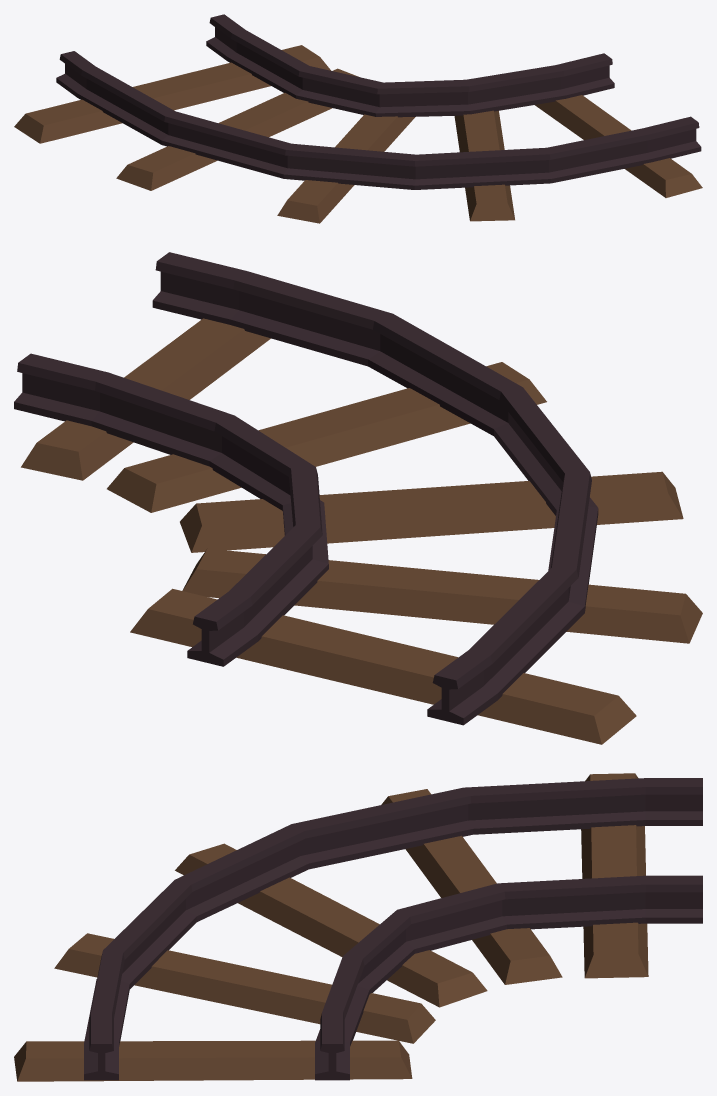
Rendered from railway_turn_light_style_01.fbx.
3 renders of one model, top to bottom at view 1: azimuth 30°, elevation 25°; view 2: azimuth 150°, elevation 25°; view 3: azimuth 270°, elevation 25°, orthographic. The views are drawn at different scales.
Parts seen in each view (by area): view 1: curved light; view 2: curved light; view 3: curved light.
Part boxes in pixels (bbox=[...]): curved light: bbox=[14, 14, 702, 223]; curved light: bbox=[14, 252, 702, 744]; curved light: bbox=[14, 773, 702, 1081].
Bounding box in the file's own units: 257 × 20.42 × 241.
